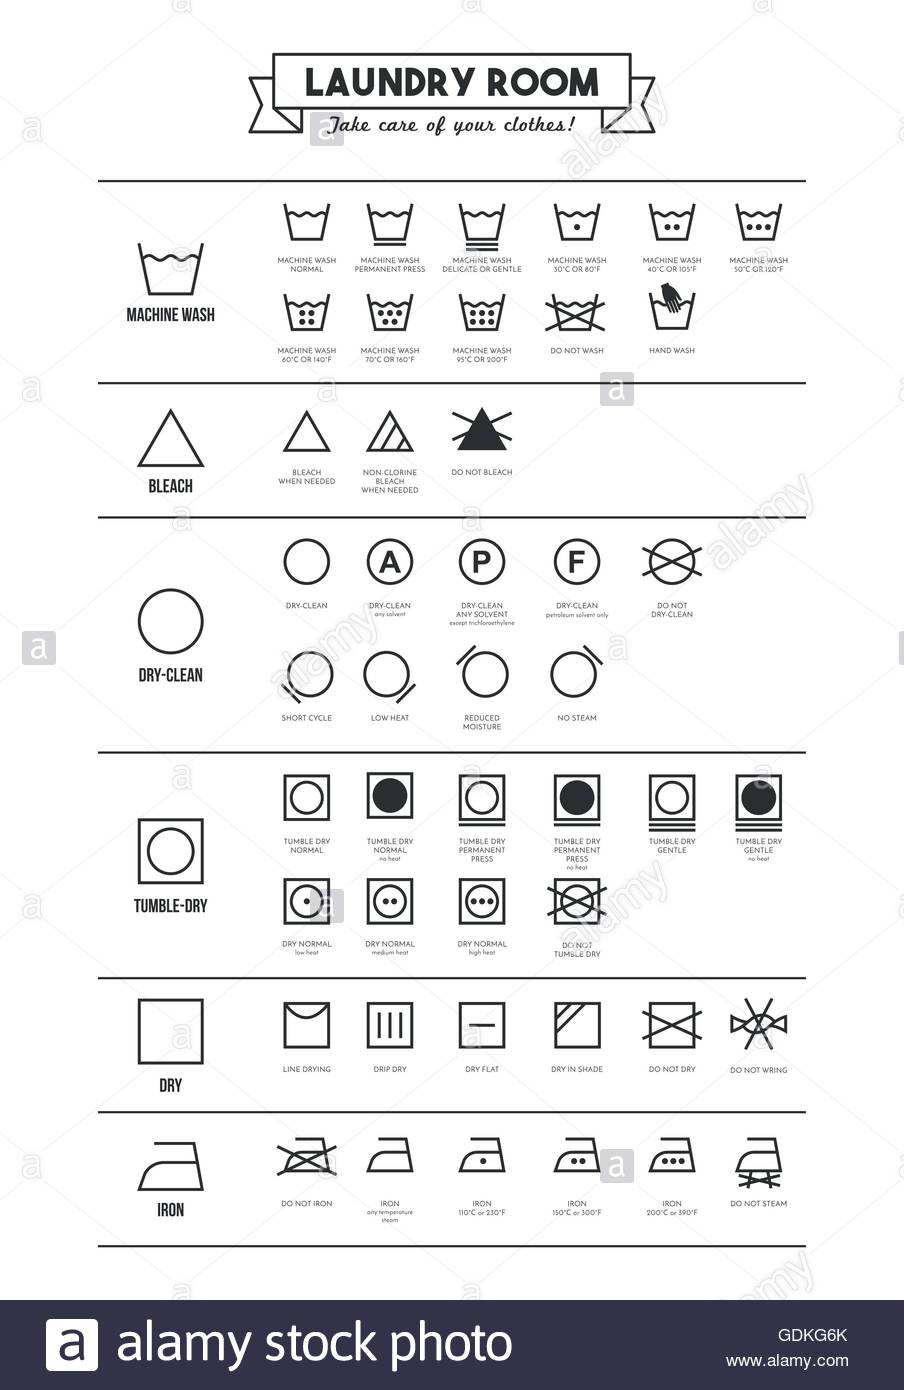do_not_bleach: (452, 406, 523, 459)
do_not_dry_clean: (639, 533, 708, 587)
do_not_iron: (276, 1131, 337, 1178)
do_not_wash: (539, 293, 613, 341)
